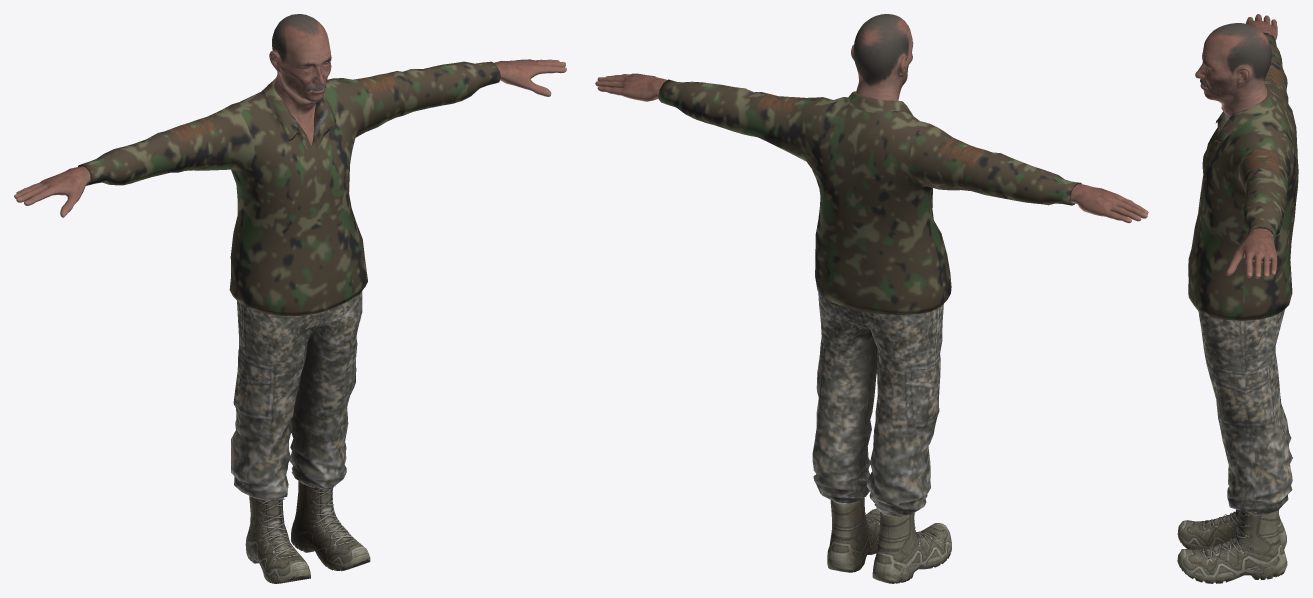
File: did3.obj
3 views of the same model, side by side, from view 1: azimuth 30°, elevation 25°; view 2: azimuth 150°, elevation 25°; view 3: azimuth 270°, elevation 25° (orthographic).
Visible parts, largest first — view 1: Tops, Bottoms, Body, Shoes; view 2: Tops, Bottoms, Body, Shoes; view 3: Tops, Bottoms, Body, Shoes.
Part boxes in pixels (x1,y1,x2,y2): Tops: (78, 61, 500, 315); Bottoms: (231, 291, 362, 500); Body: (14, 14, 566, 217); Shoes: (245, 481, 370, 583); Tops: (658, 79, 1081, 314); Bottoms: (812, 292, 943, 516); Body: (595, 14, 1148, 223); Shoes: (827, 498, 951, 583); Tops: (1188, 32, 1298, 320); Bottoms: (1198, 309, 1292, 516); Body: (1195, 14, 1277, 278); Shoes: (1177, 509, 1287, 583).
Bounding box in the file's own units: 190 × 179 × 36.76.
Materials: 1 (1 with a texture image).
